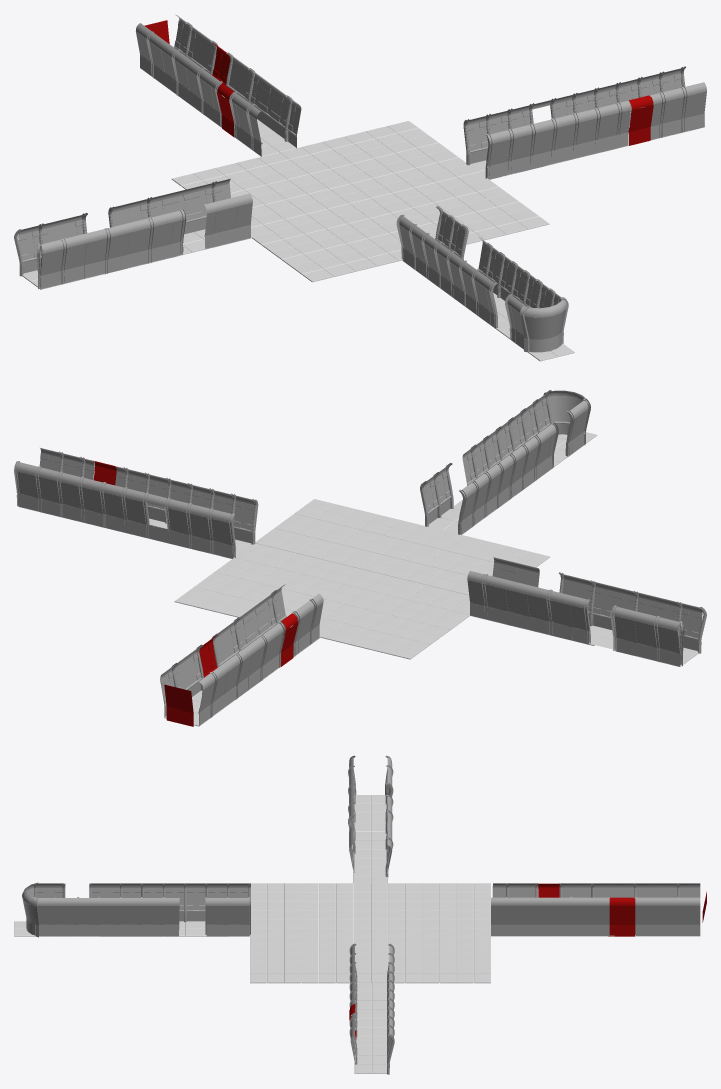
Rendered from floor.fbx.
3 views of the same model, one above another, from view 1: azimuth 30°, elevation 25°; view 2: azimuth 150°, elevation 25°; view 3: azimuth 270°, elevation 25° (orthographic). The views are drawn at different scales.
Parts seen in each view (by area): view 1: group55 (×2), group52 (×2), group51, group53 (×2), group62, polySurface3, pCube53 (×2), group59, group60, group56, group75, group76 (+19 smaller); view 2: group55 (×2), group52 (×2), group62, group51, group53 (×2), polySurface17, group60, group59, group56, polySurface15, group24, group54 (+19 smaller); view 3: polySurface15, group76, group52, group82, polySurface17, group75, group55, group53, group77, group78, group87, group89 (+12 smaller).
Boxes of the visible parts, x1=… form: group55 (×2): x1=446, y1=93, x2=598, y2=306; group52 (×2): x1=409, y1=108, x2=533, y2=278; group51: x1=463, y1=116, x2=511, y2=179; group53 (×2): x1=421, y1=103, x2=555, y2=287; group62: x1=597, y1=77, x2=663, y2=148; polySurface3: x1=520, y1=297, x2=566, y2=352; pCube53 (×2): x1=40, y1=105, x2=653, y2=289; group59: x1=640, y1=71, x2=685, y2=137; group60: x1=662, y1=66, x2=706, y2=132; group56: x1=575, y1=87, x2=620, y2=153; group75: x1=459, y1=254, x2=517, y2=315; group76: x1=471, y1=263, x2=530, y2=324; group55 (×2): x1=121, y1=435, x2=526, y2=538; group52 (×2): x1=186, y1=463, x2=488, y2=553; group62: x1=57, y1=458, x2=128, y2=527; group51: x1=209, y1=495, x2=258, y2=558; group53 (×2): x1=164, y1=464, x2=501, y2=548; polySurface17: x1=423, y1=472, x2=476, y2=534; group60: x1=14, y1=448, x2=63, y2=511; group59: x1=35, y1=453, x2=85, y2=517; group56: x1=100, y1=469, x2=149, y2=532; polySurface15: x1=535, y1=390, x2=597, y2=456; group24: x1=654, y1=616, x2=698, y2=666; group54: x1=143, y1=479, x2=192, y2=543; polySurface15: x1=14, y1=883, x2=65, y2=936; group76: x1=92, y1=883, x2=122, y2=936; group52: x1=205, y1=883, x2=229, y2=936; group82: x1=162, y1=883, x2=186, y2=936; polySurface17: x1=227, y1=883, x2=250, y2=936; group75: x1=119, y1=883, x2=143, y2=936; group55: x1=141, y1=883, x2=165, y2=936; group53: x1=185, y1=883, x2=208, y2=936; group77: x1=77, y1=883, x2=100, y2=936; group78: x1=55, y1=883, x2=78, y2=936; group87: x1=677, y1=897, x2=700, y2=936; group89: x1=634, y1=897, x2=657, y2=936.
Size of the model in its own units: 3781 by 248 by 3943.
